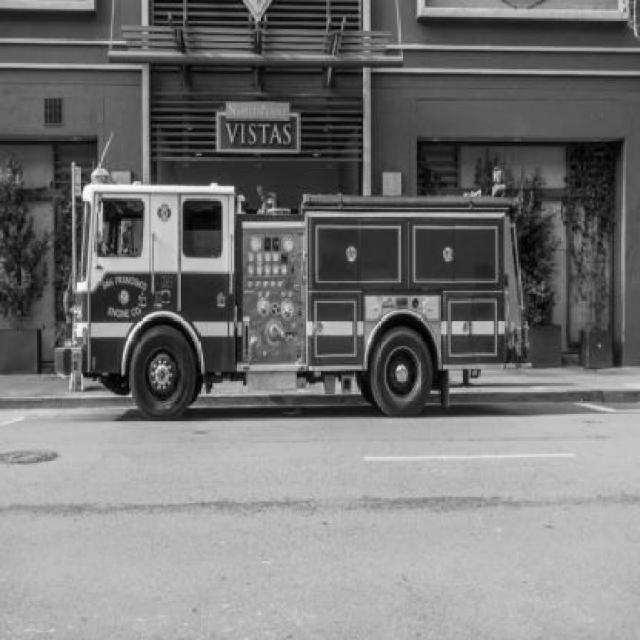Fire Truck: (54, 168, 526, 421)
